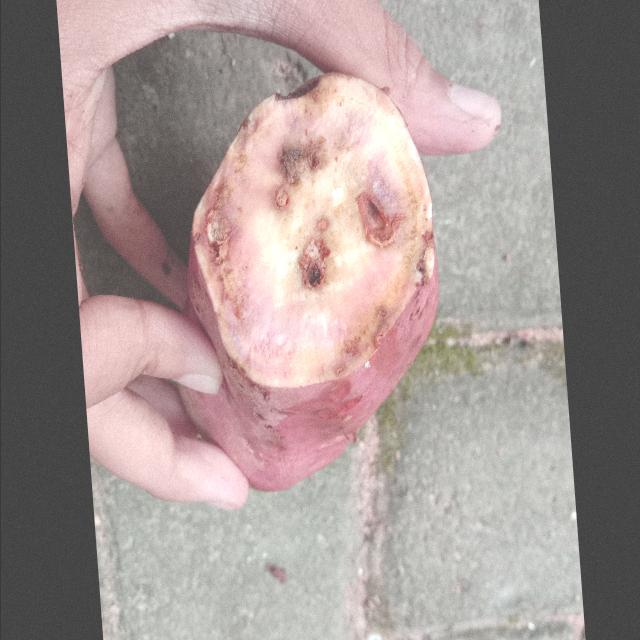Sick Sweet Potato_Tuber Rot: (191, 75, 431, 387)
